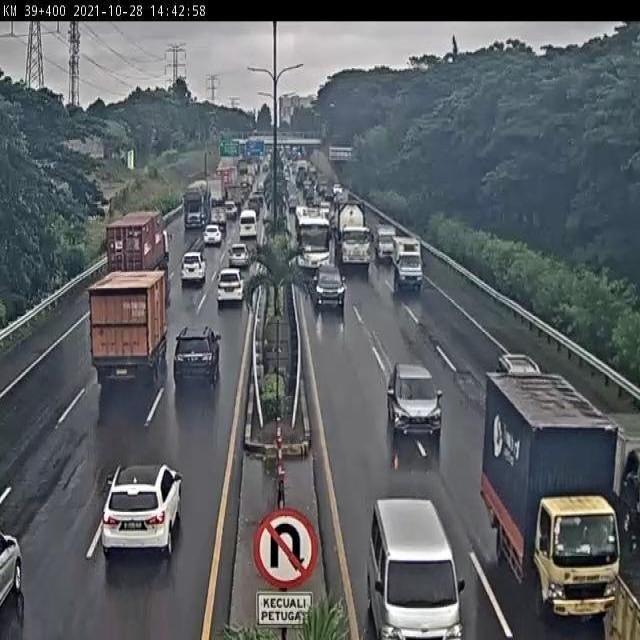ARABA: (368, 494, 466, 640), (101, 463, 182, 556), (388, 361, 444, 448), (495, 354, 553, 418), (174, 326, 223, 390), (314, 267, 346, 317), (217, 265, 246, 308), (181, 249, 208, 287), (228, 239, 247, 264), (203, 224, 222, 247)
KAMYONET: (480, 370, 621, 622), (396, 237, 427, 295), (378, 227, 401, 270)
OTOBUS: (296, 208, 335, 281)
TIR: (88, 270, 171, 386), (107, 209, 172, 291), (334, 198, 377, 278)
